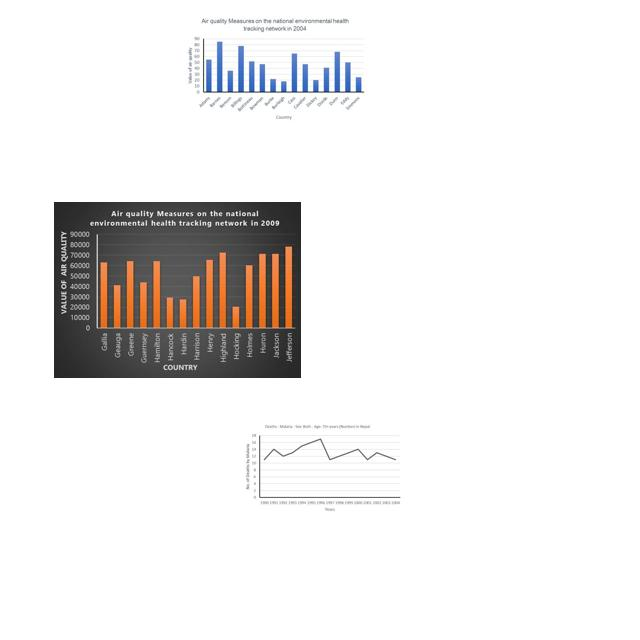Graph: (54, 202, 301, 378), (183, 15, 368, 123), (241, 422, 404, 514)
